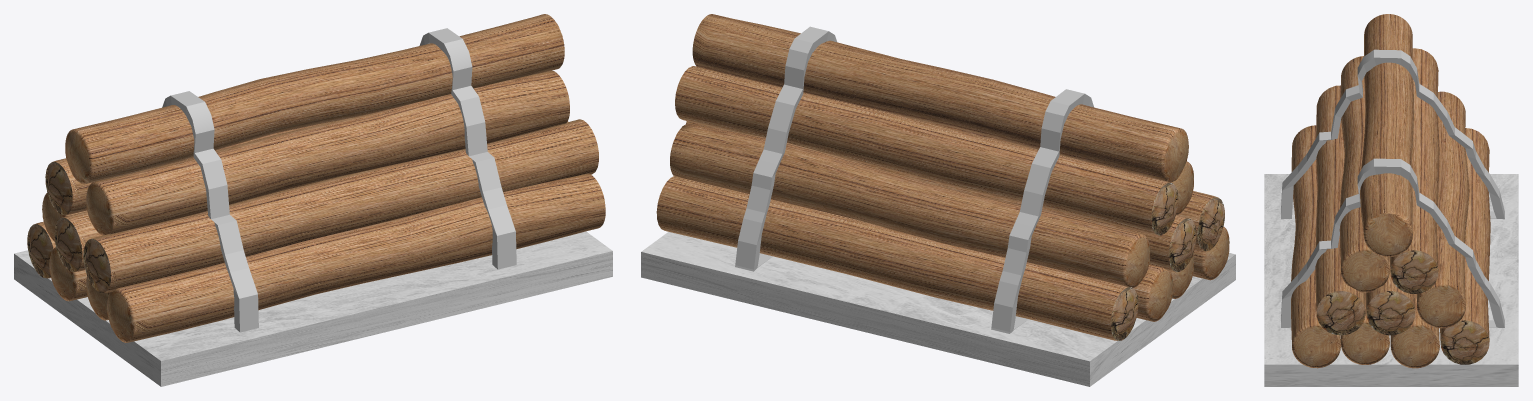
File: Tree_block_Set_2.fbx
The picture shows the model from 3 angles, left to right: view 1: azimuth 30°, elevation 25°; view 2: azimuth 150°, elevation 25°; view 3: azimuth 270°, elevation 25°; orthographic projection. The views are drawn at different scales.
Visible parts, largest first — view 1: pCube1, pCylinder6, pCylinder5, pCylinder10, pCylinder9, polySurface2, polySurface1, pCylinder11, pCylinder8, pCylinder2, pCylinder1, pCylinder7 (+1 smaller); view 2: pCube1, pCylinder11, pCylinder10, pCylinder3, pCylinder1, polySurface2, polySurface1, pCylinder8, pCylinder6, pCylinder2, pCylinder5, pCylinder9 (+1 smaller); view 3: pCube1, pCylinder10, pCylinder3, pCylinder6, pCylinder11, pCylinder5, pCylinder1, pCylinder9, polySurface2, polySurface1, pCylinder8, pCylinder2 (+1 smaller).
Part boxes in pixels (box(x1,y1,x2,y2)): pCube1: box(14, 231, 612, 386); pCylinder6: box(83, 119, 598, 292); pCylinder5: box(107, 173, 605, 342); pCylinder10: box(65, 14, 564, 183); pCylinder9: box(86, 70, 569, 235); polySurface2: box(162, 91, 258, 332); polySurface1: box(419, 28, 516, 269); pCylinder11: box(45, 121, 333, 215); pCylinder8: box(54, 121, 568, 271); pCylinder2: box(49, 247, 87, 301); pCylinder1: box(27, 221, 55, 278); pCylinder7: box(86, 276, 109, 320); pCube1: box(641, 232, 1235, 386); pCylinder11: box(675, 66, 1178, 235); pCylinder10: box(692, 14, 1188, 182); pCylinder3: box(670, 123, 1150, 288); pCylinder1: box(656, 176, 1138, 340); polySurface2: box(991, 89, 1094, 333); polySurface1: box(735, 26, 836, 271); pCylinder8: box(686, 121, 1196, 272); pCylinder6: box(1178, 191, 1224, 251); pCylinder2: box(1133, 264, 1173, 321); pCylinder5: box(1192, 227, 1229, 280); pCylinder9: box(921, 120, 1193, 214); pCube1: box(1264, 174, 1518, 386); pCylinder10: box(1360, 14, 1414, 256); pCylinder3: box(1416, 91, 1469, 328); pCylinder6: box(1315, 85, 1365, 335); pCylinder11: box(1389, 48, 1439, 293); pCylinder5: box(1291, 125, 1340, 368); pCylinder1: box(1440, 128, 1490, 364); pCylinder9: box(1339, 56, 1389, 292); polySurface2: box(1281, 49, 1504, 219); polySurface1: box(1281, 158, 1504, 327); pCylinder8: box(1365, 257, 1415, 335); pCylinder2: box(1390, 294, 1439, 368).
Bounding box in the file's own units: 20.39 × 8.24 × 10.34.
